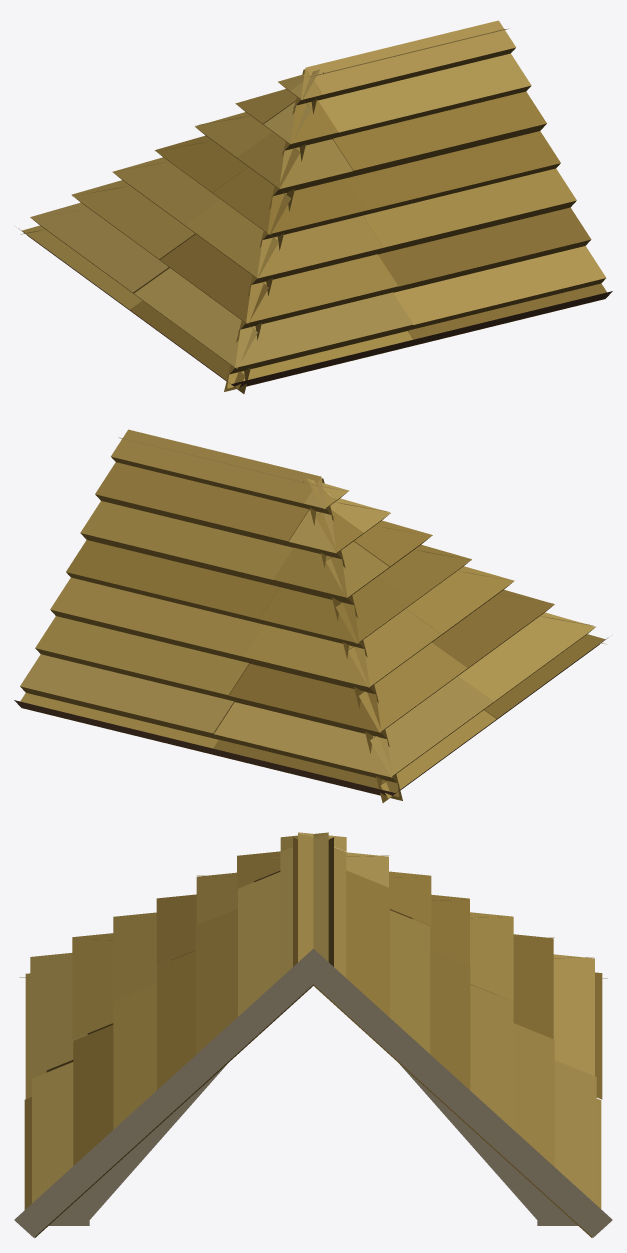
File: roof-gable-end-thatch.glb
3 renders of one model, top to bottom at view 1: azimuth 30°, elevation 25°; view 2: azimuth 150°, elevation 25°; view 3: azimuth 270°, elevation 25°, orthographic. The views are drawn at different scales.
Visible parts, largest first — view 1: roof-gable-end-thatch; view 2: roof-gable-end-thatch; view 3: roof-gable-end-thatch.
Boxes of the visible parts, x1,y1,x2,y2 form: roof-gable-end-thatch: [18, 20, 612, 393]; roof-gable-end-thatch: [14, 429, 608, 802]; roof-gable-end-thatch: [14, 832, 612, 1237].
Size of the model in its own units: 1.09 by 0.5721 by 1.07.
